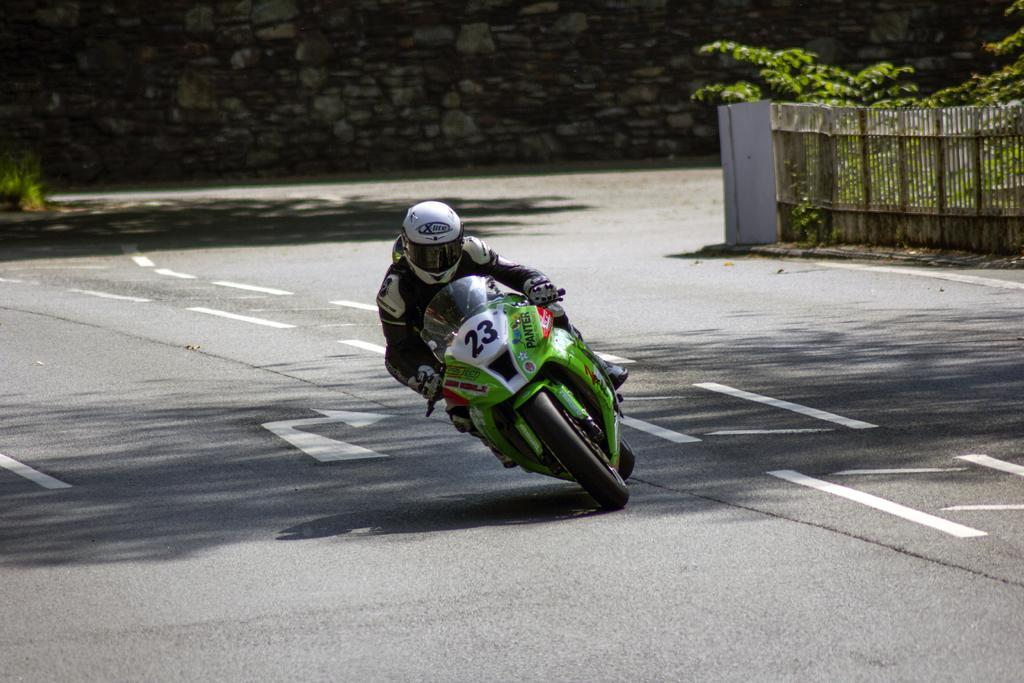helmet: (399, 199, 466, 289)
